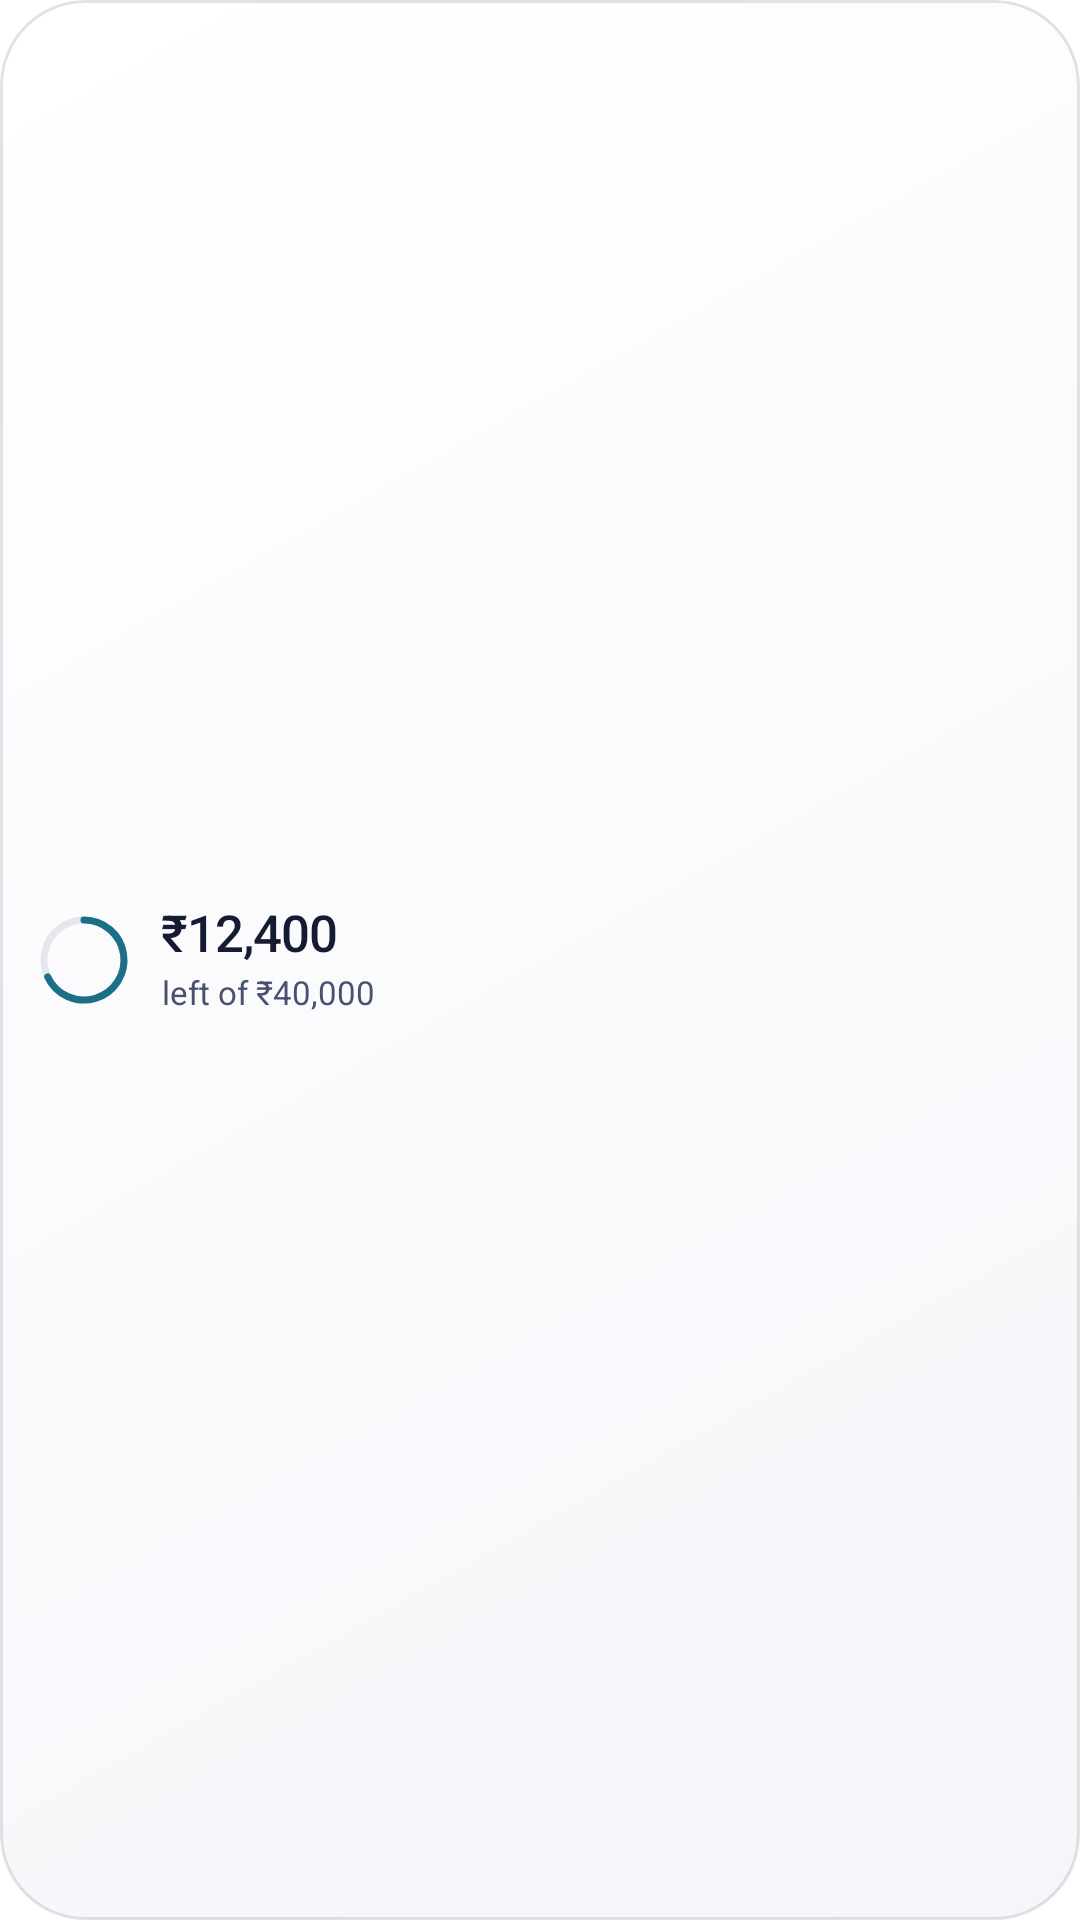

Locate icon controls on the screen. Image size 1080 x 1920, boxes as (x1, y1, x2, y2).
widget ring: (44, 916, 128, 1004)
